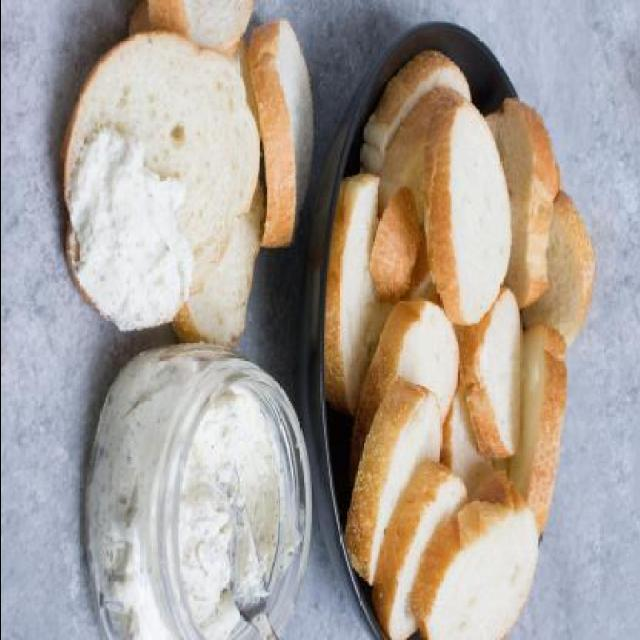Spread: (59, 132, 196, 344)
